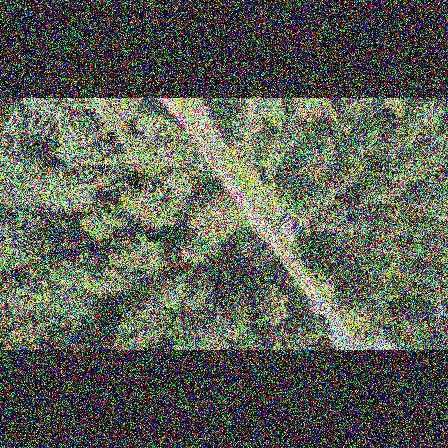Sick: (51, 138, 83, 176), (414, 101, 445, 124)
